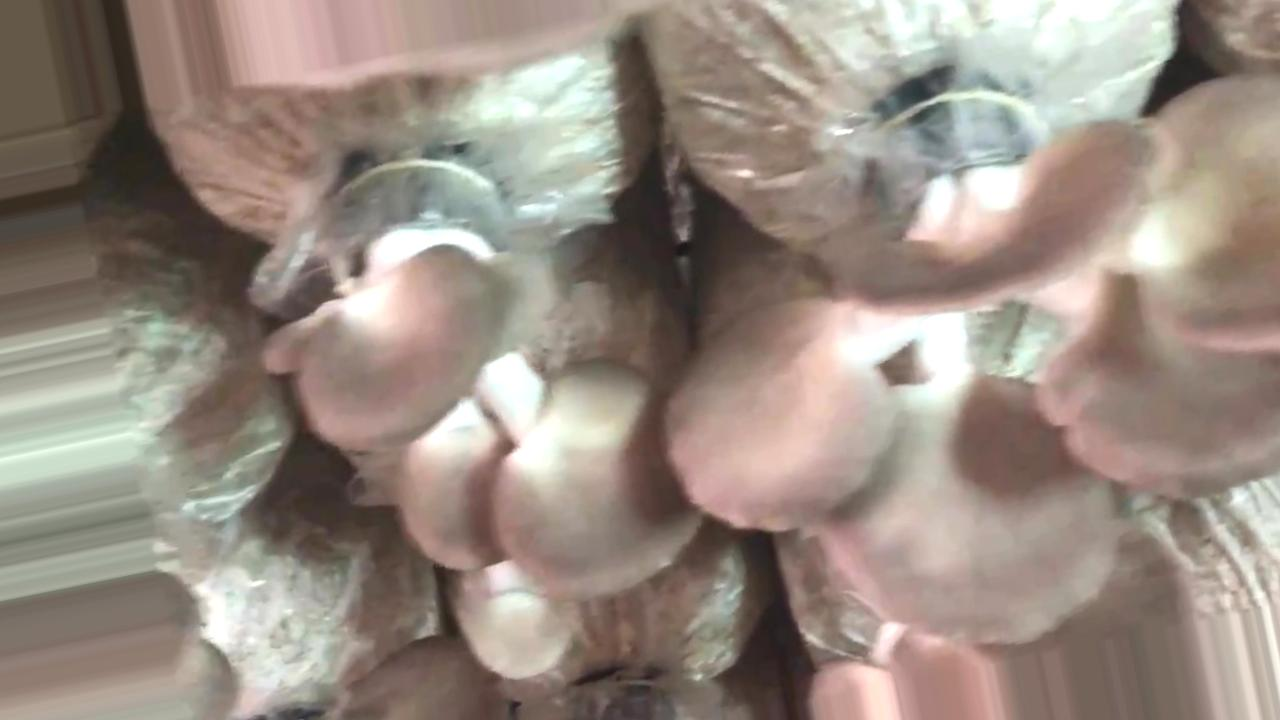nam: (661, 77, 1274, 649), (284, 160, 700, 602), (339, 641, 507, 720)
